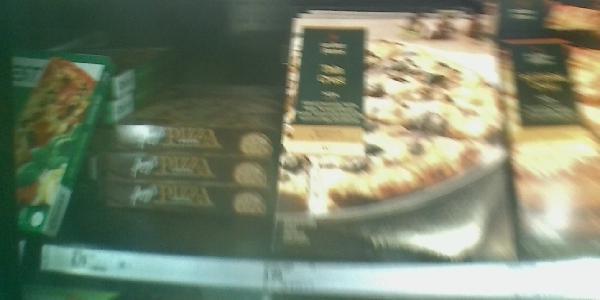pizza1: (276, 11, 520, 260)
pizza2: (97, 119, 277, 153), (97, 152, 273, 184), (93, 183, 270, 210)
